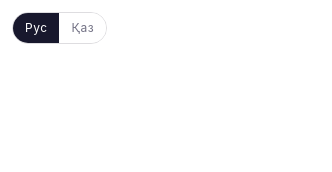
Test: переключатель языка › отмечает активный язык для скринридера
Click the button "Қаз": coordinates (83, 28) [60,13,106,43]
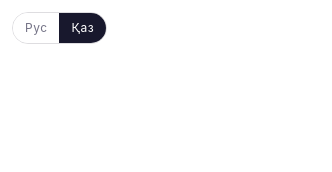
Result: the button "Қаз" is pressed at [60,13,106,43]
Result: the button "Рус" is not pressed at [13,13,60,43]
